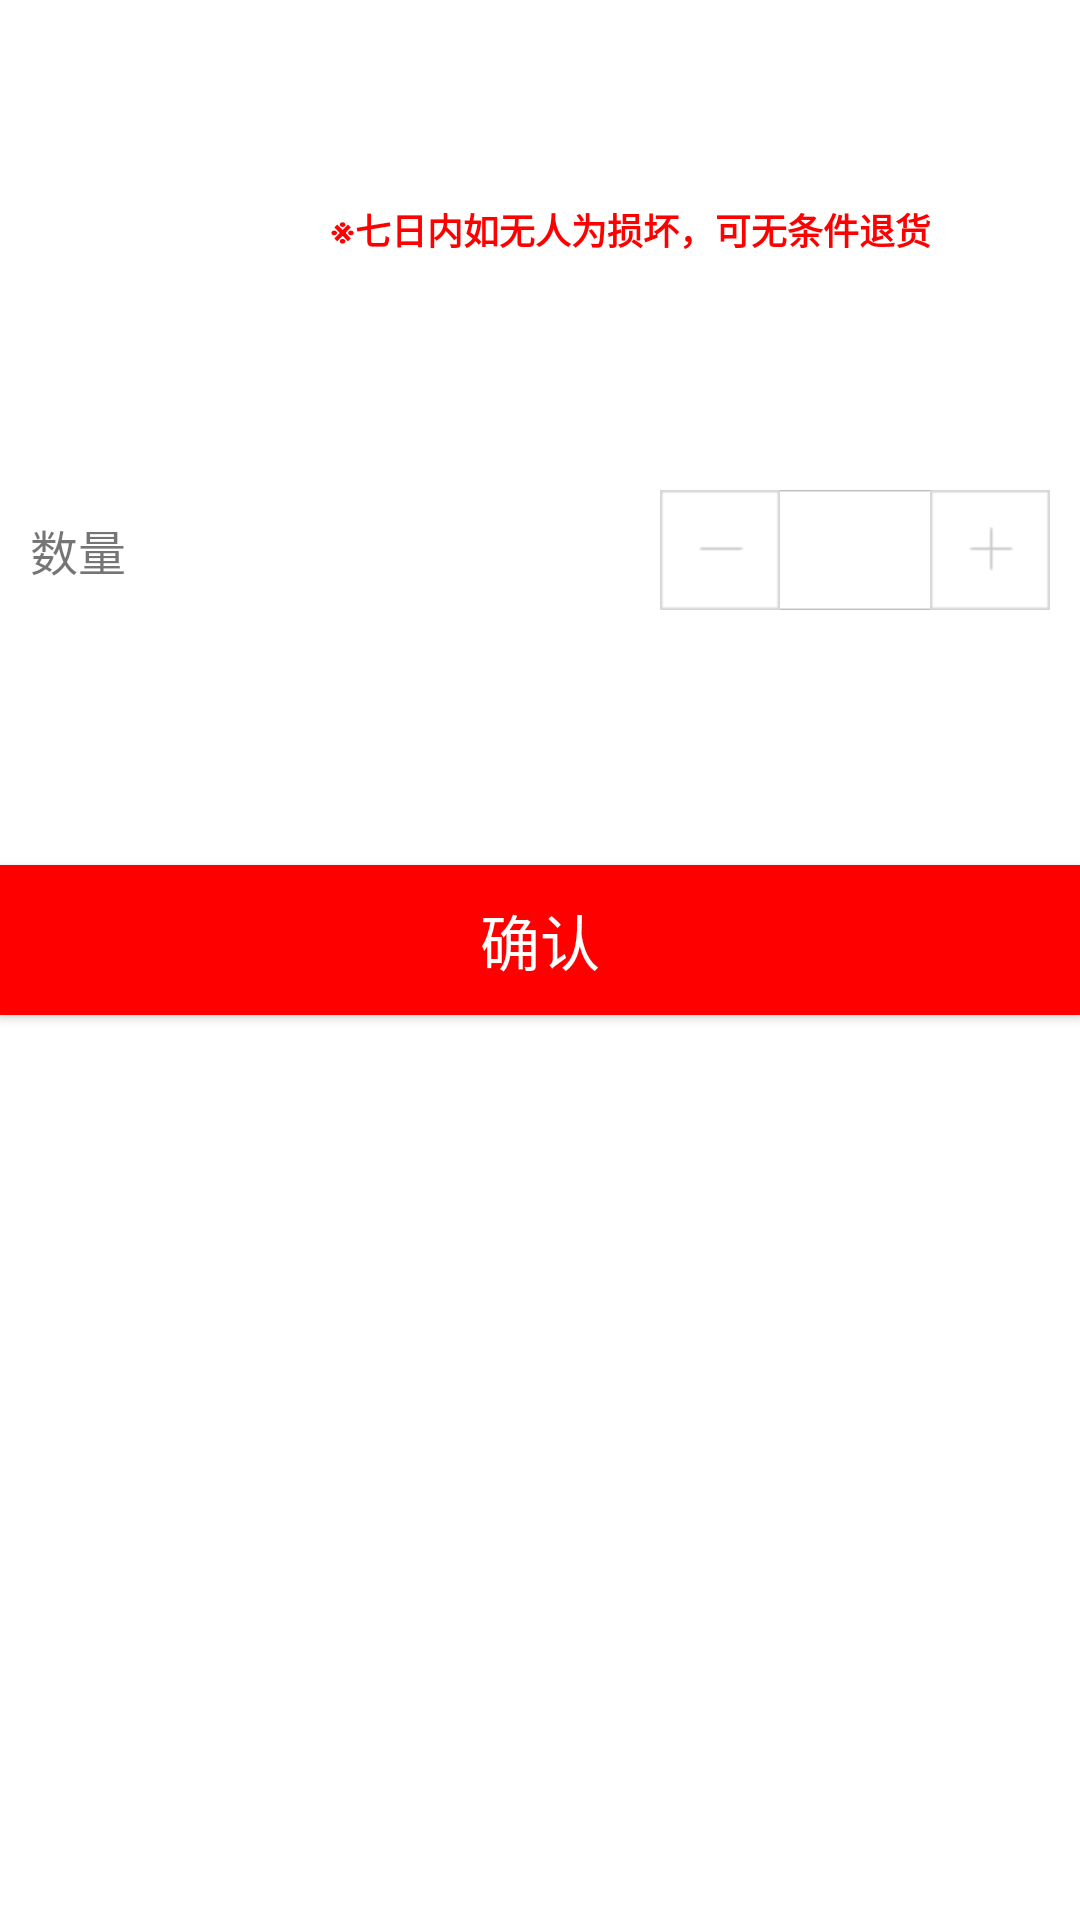

Where icons sit on this 1080×1920 app screen, as (x1, y1, x2, y2):
add: (930, 490, 1050, 610)
